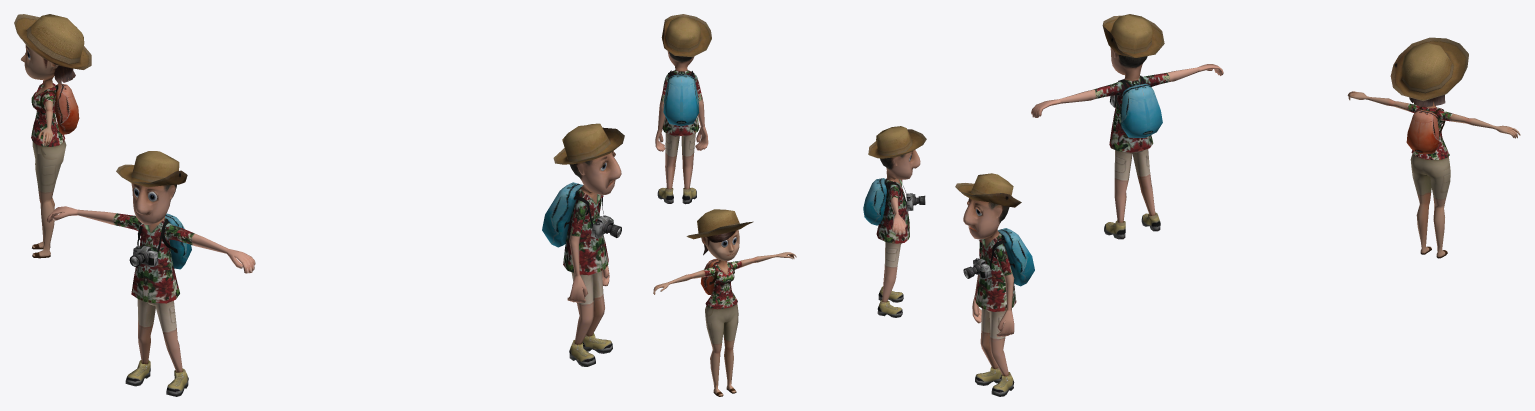
File: turistas.obj
3 renders of one model, left to right at view 1: azimuth 30°, elevation 25°; view 2: azimuth 150°, elevation 25°; view 3: azimuth 270°, elevation 25°, orthographic. The views are drawn at different scales.
Visible parts, largest first — view 1: turistas:Mesh_0078FBXASC046rip_noesis_meshnode_0000, turistas:Mesh, turistas:Mesh_0209FBXASC046rip_noesis_meshnode_0000; view 2: turistas:Mesh, turistas:Mesh_0078FBXASC046rip_noesis_meshnode_0000, turistas:Mesh_0209FBXASC046rip_noesis_meshnode_0000; view 3: turistas:Mesh_0078FBXASC046rip_noesis_meshnode_0000, turistas:Mesh_0209FBXASC046rip_noesis_meshnode_0000, turistas:Mesh.
Part boxes in pixels (box(x1,y1,x2,y2)): turistas:Mesh_0078FBXASC046rip_noesis_meshnode_0000: box(46, 151, 255, 396); turistas:Mesh: box(542, 123, 624, 366); turistas:Mesh_0209FBXASC046rip_noesis_meshnode_0000: box(14, 14, 91, 258); turistas:Mesh: box(655, 14, 711, 204); turistas:Mesh_0078FBXASC046rip_noesis_meshnode_0000: box(863, 126, 926, 317); turistas:Mesh_0209FBXASC046rip_noesis_meshnode_0000: box(653, 209, 796, 396); turistas:Mesh_0078FBXASC046rip_noesis_meshnode_0000: box(1031, 14, 1223, 239); turistas:Mesh_0209FBXASC046rip_noesis_meshnode_0000: box(1347, 37, 1520, 258); turistas:Mesh: box(955, 173, 1034, 396).
Size of the model in its own units: 8.82 by 4.46 by 10.81.
3 materials, 3 textured.
